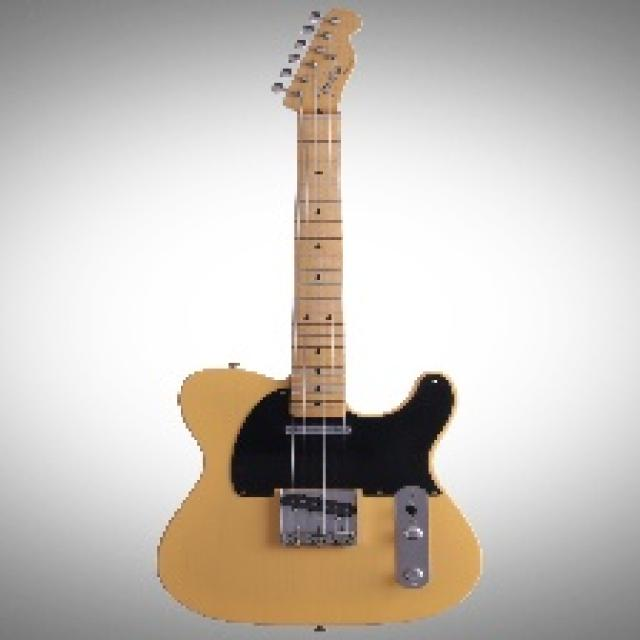guitar: (154, 8, 488, 636)
